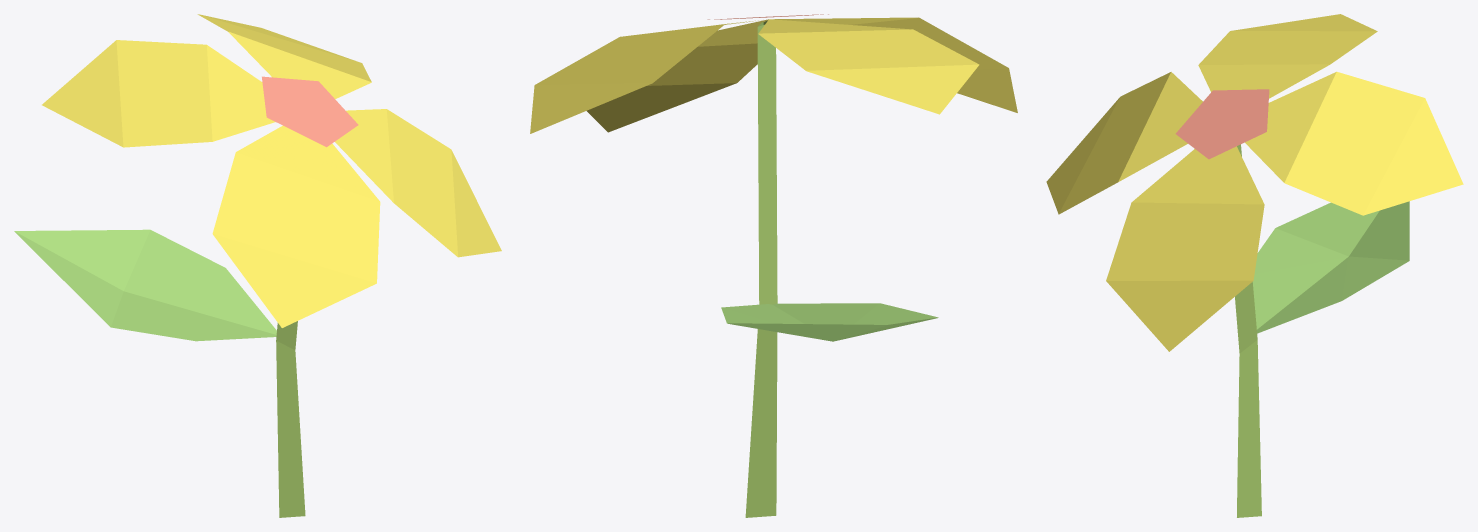
File: Flower_d_TwoS_06.fbx
3 renders of one model, left to right at view 1: azimuth 30°, elevation 25°; view 2: azimuth 150°, elevation 25°; view 3: azimuth 270°, elevation 25°, orthographic. The views are drawn at different scales.
Visible parts, largest first — view 1: Flower_d_TwoS_06; view 2: Flower_d_TwoS_06; view 3: Flower_d_TwoS_06.
Part boxes in pixels (left/top/right/bottom): Flower_d_TwoS_06: left=14, top=14, right=501, bottom=517; Flower_d_TwoS_06: left=530, top=14, right=1017, bottom=517; Flower_d_TwoS_06: left=1046, top=14, right=1463, bottom=517.
Bounding box in the file's own units: 21.95 × 25.61 × 22.28.
